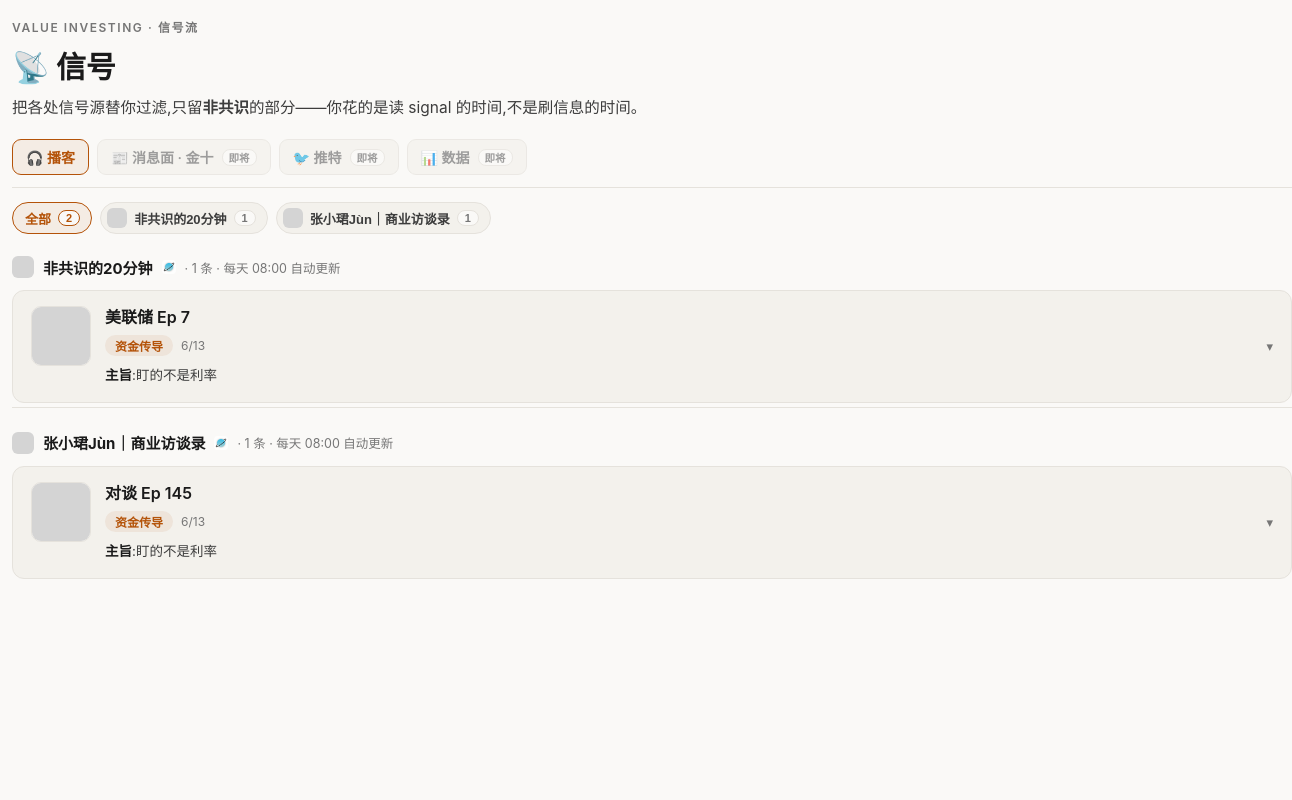
Signals › filters to a single 栏目 when its chip is clicked
Expected: the heading "对谈 Ep 145" is shown, [105, 483, 192, 503]
Expected: the heading "美联储 Ep 7" is shown, [105, 307, 190, 327]
Click the button "张小珺Jùn｜商业访谈录 1": (383, 218) [276, 202, 491, 234]
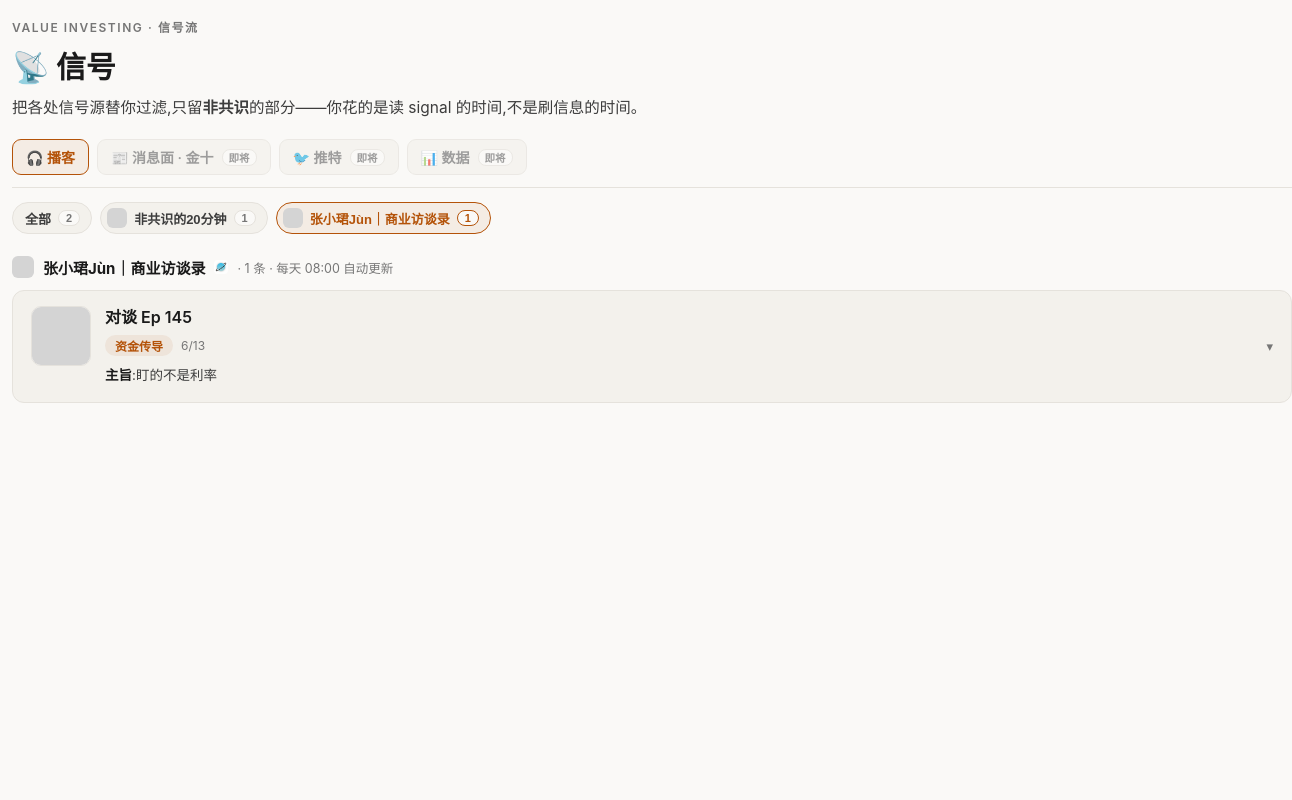
Expected: the heading "对谈 Ep 145" is shown, [105, 307, 192, 327]
Expected: the heading "美联储 Ep 7" is gone
